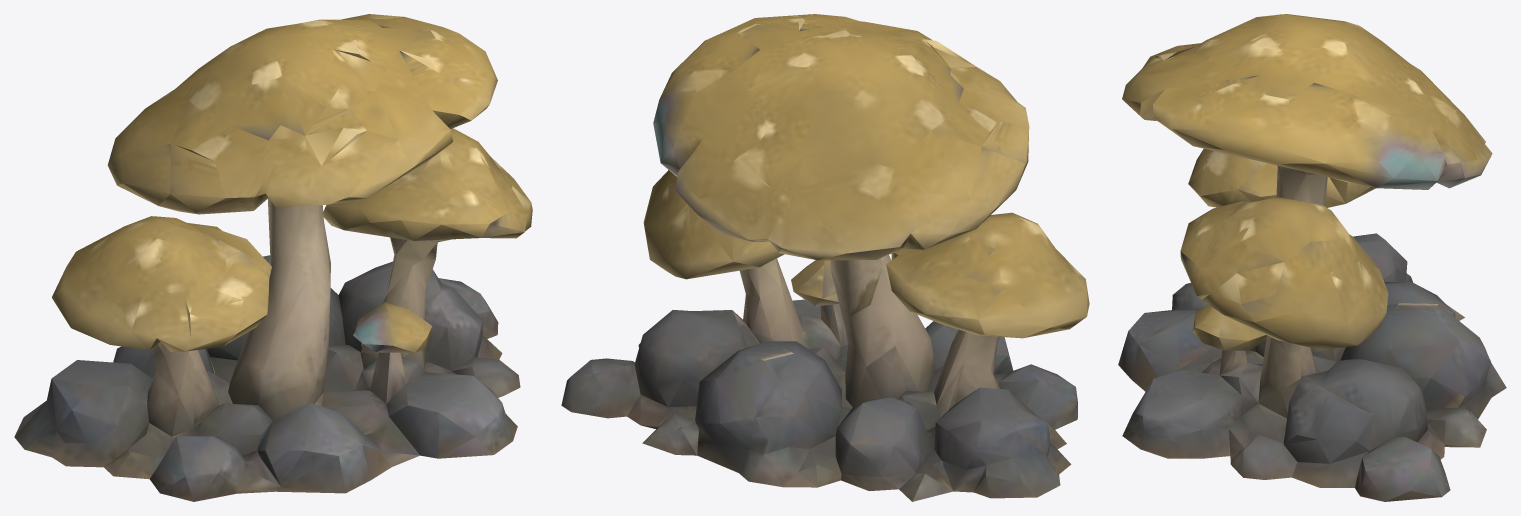
The model's file is setas_amarillas.glb.
The picture shows the model from 3 angles, left to right: view 1: azimuth 30°, elevation 25°; view 2: azimuth 150°, elevation 25°; view 3: azimuth 270°, elevation 25°; orthographic projection. The views are drawn at different scales.
Visible parts, largest first — view 1: setas_rojas_malla; view 2: setas_rojas_malla; view 3: setas_rojas_malla.
Part boxes in pixels (x1,y1,x2,y2): setas_rojas_malla: (14,14,532,501); setas_rojas_malla: (561,14,1089,501); setas_rojas_malla: (1118,14,1506,501).
Size of the model in its own units: 0.4777 by 0.35 by 0.3394.
1 material, 1 textured.
